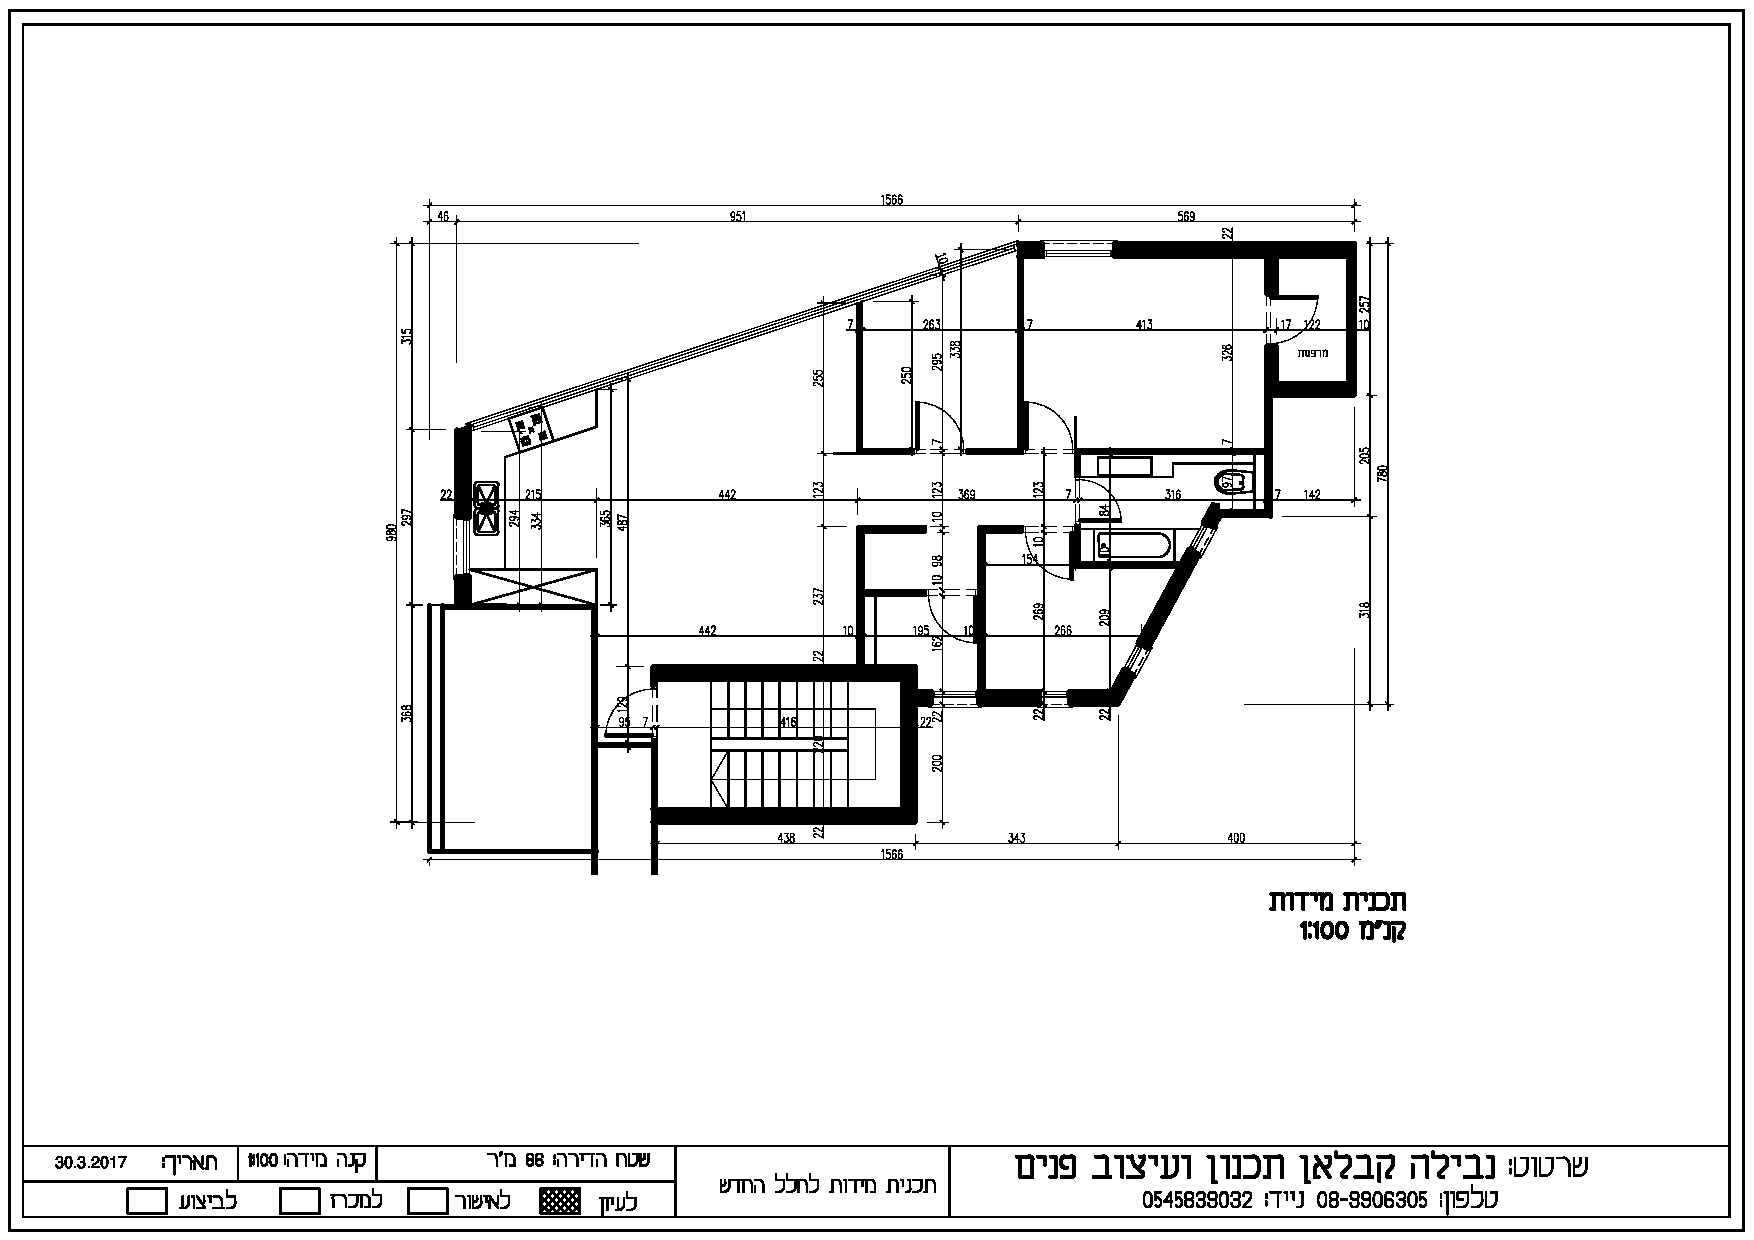door: (1023, 392, 1074, 446)
wall: (1117, 242, 1358, 259), (654, 808, 915, 823), (652, 666, 910, 680)
